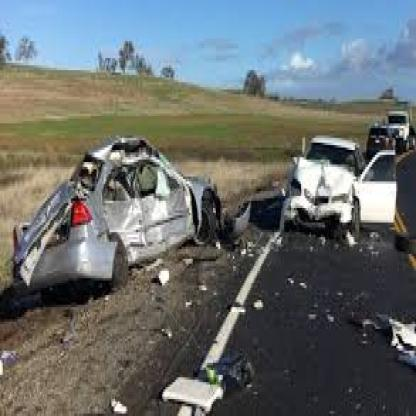accident: (8, 122, 228, 320), (265, 108, 403, 278)
